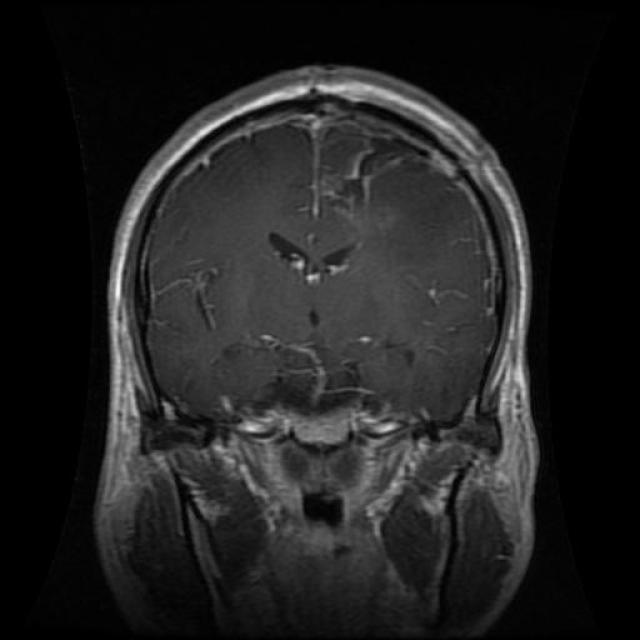glioma: (216, 332, 329, 412)
